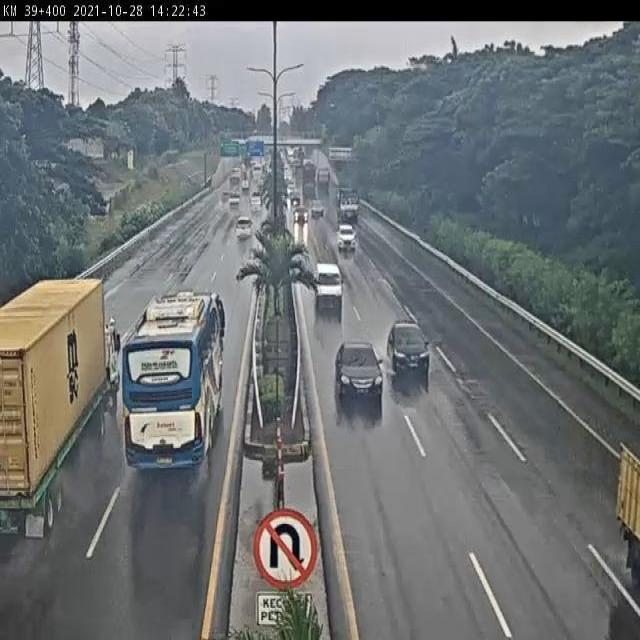bus-l-: (120, 290, 225, 473)
truck-xl-: (0, 278, 117, 542)
